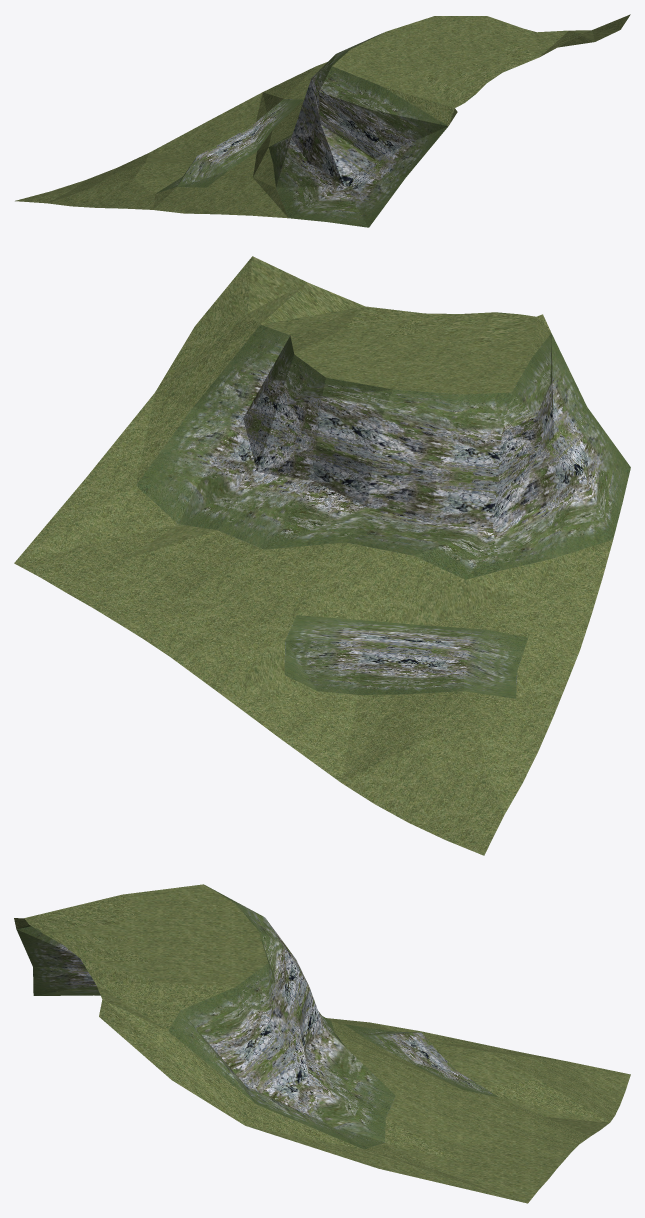
Rendered from cuntehil03.obj.
3 views of the same model, one above another, from view 1: azimuth 30°, elevation 25°; view 2: azimuth 150°, elevation 25°; view 3: azimuth 270°, elevation 25° (orthographic). The views are drawn at different scales.
Parts seen in each view (by area): view 1: cuntehil03; view 2: cuntehil03; view 3: cuntehil03.
Part boxes in pixels (bbox=[...]): cuntehil03: bbox=[15, 14, 630, 227]; cuntehil03: bbox=[14, 256, 630, 855]; cuntehil03: bbox=[14, 884, 630, 1203].
Bounding box in the file's own units: 206 × 111 × 204.
